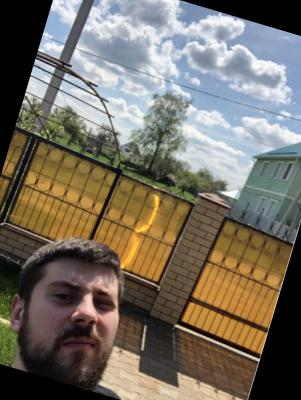without_mask: (13, 262, 129, 393)
